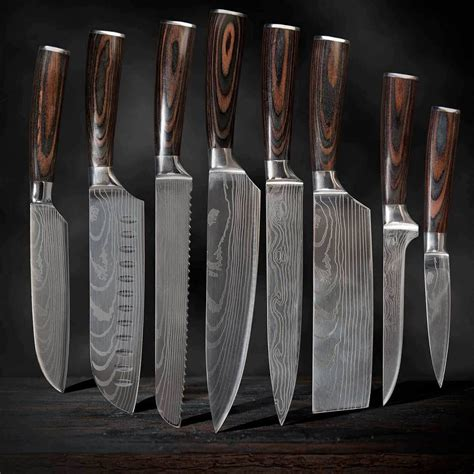knife: (84, 28, 144, 417), (206, 10, 260, 432), (314, 33, 371, 415), (155, 21, 196, 429), (265, 21, 302, 427), (31, 44, 73, 396), (384, 73, 416, 404), (427, 102, 459, 388)
